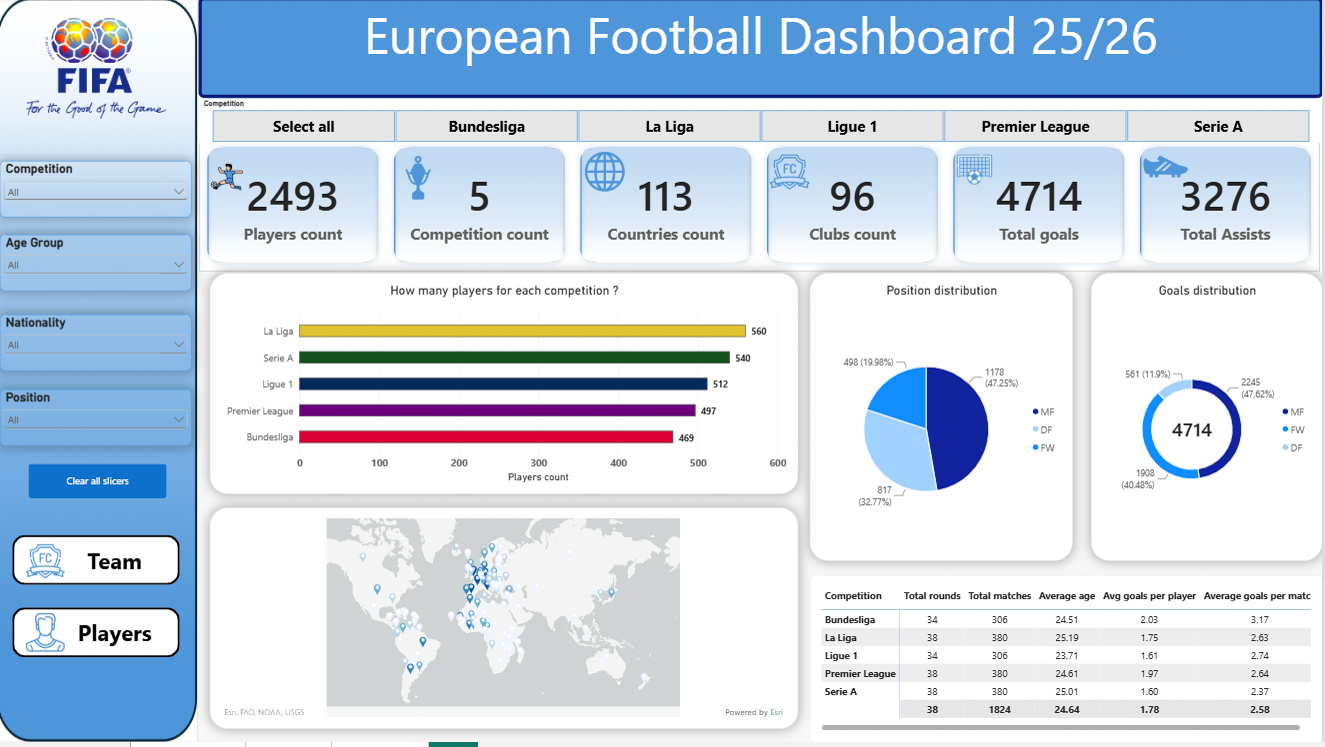

The dashboard page shown, as its layout file describes it:
{"tool":"powerbi","page":{"name":"Overview","canvas":[1920,1080],"ordinal":0},"visuals":[{"type":"cardVisual","fields":{"Data":["_measures.Players count","_measures.Competition count","_measures.Countries count","_measures.Clubs count","_measures.Total goals","_measures.Total Assists"]},"box":[292.3,203.8,1628.1,195.5],"z":0},{"type":"shape","box":[23.5,780,242.5,72.4],"z":0,"group":"g1"},{"type":"textbox","box":[292.3,0,1628.1,146.1],"z":1000},{"type":"image","box":[43.4,783.6,56.1,68.8],"z":1000,"group":"g2"},{"type":"image","box":[43.4,886.7,56.1,68.8],"z":1000,"group":"g3"},{"type":"actionButton","box":[0,0,292.3,1080.6],"z":2000},{"type":"shape","box":[109.6,793.1,123.1,48.9],"z":2000,"group":"g2"},{"type":"shape","box":[109.6,896.2,123.1,48.9],"z":2000,"group":"g3"},{"type":"image","box":[43.2,20.6,203.8,164.7],"z":3000},{"type":"image","box":[308.7,220.2,49.4,82.3],"z":4000},{"type":"image","box":[578.4,220.2,63.8,82.3],"z":5000},{"type":"image","box":[1119.7,220.2,57.6,65.9],"z":6000},{"type":"image","box":[1389.4,212,53.5,74.1],"z":7000},{"type":"image","box":[1661.1,203.8,63.8,82.3],"z":8000},{"type":"barChart","title":"How many players for each competition ?","fields":{"Category":["dim_competitions.Competition"],"Series":["dim_competitions.Competition"],"Y":["_measures.Players count"]},"box":[308.7,399.3,852.1,321.1],"z":9000},{"type":"esriVisual","fields":{"Color":["_measures.Players count"],"Location":["dim_players.Nationality"]},"box":[308.7,741,852.1,321.1],"z":10000},{"type":"pivotTable","fields":{"Rows":["dim_competitions.Competition"],"Values":["_measures.Total rounds","_measures.Total matches","_measures.Average age","_measures.Average goals","_measures.Average goals per match"]},"box":[1178.1,837.9,743.1,242.9],"z":11000},{"type":"pieChart","title":"Position distribution","fields":{"Category":["dim_players.Position"],"Y":["_measures.Players count"]},"box":[1177.4,399.3,380.8,417.8],"z":12000},{"type":"donutChart","title":"Goals distribution","fields":{"Category":["dim_players.Position"],"Y":["_measures.Total goals"]},"box":[1584.9,399.3,335.5,417.8],"z":13000},{"type":"slicer","fields":{"Values":["dim_competitions.Competition"]},"box":[6.2,236.7,277.9,82.3],"z":14000},{"type":"slicer","fields":{"Values":["dim_players.Age Group","dim_players.Age"]},"box":[6.2,343.7,277.9,82.3],"z":15000},{"type":"slicer","fields":{"Values":["dim_players.Nationality"]},"box":[6.2,459,277.9,82.3],"z":16000},{"type":"slicer","fields":{"Values":["dim_players.Position"]},"box":[6.2,568.1,277.9,82.3],"z":17000},{"type":"image","box":[819.2,224.4,123.5,57.6],"z":19000},{"type":"slicer","fields":{"Values":["dim_competitions.Competition"]},"box":[293.2,146.6,1626.9,65.1],"z":19001},{"type":"group","id":"g1","title":"Group 1","box":[23.5,780,242.5,72.4],"z":19004},{"type":"group","id":"g2","title":"Group 1","box":[43.4,783.6,188.2,68.8],"z":19005},{"type":"shape","box":[23.5,884.9,242.5,72.4],"z":19006},{"type":"group","id":"g3","title":"Group 1","box":[43.4,886.7,189.2,68.8],"z":19007},{"type":"actionButton","box":[47.1,676.8,200,50],"z":19008}]}

Visuals, with their boxes on the page's 1920x1080 design canvas (x1, y1, x2, y2). These are canvas units, not pixel positions in the 1325x747 screenshot, which may show the page scaled, cropped or inside an application window:
cardVisual - _measures.Players count x _measures.Competition count: rect(292, 204, 1920, 399)
shape: rect(24, 780, 266, 852)
textbox: rect(292, 0, 1920, 146)
image: rect(43, 784, 100, 852)
image: rect(43, 887, 100, 956)
actionButton: rect(0, 0, 292, 1081)
shape: rect(110, 793, 233, 842)
shape: rect(110, 896, 233, 945)
image: rect(43, 21, 247, 185)
image: rect(309, 220, 358, 302)
image: rect(578, 220, 642, 302)
image: rect(1120, 220, 1177, 286)
image: rect(1389, 212, 1443, 286)
image: rect(1661, 204, 1725, 286)
"How many players for each competition ?" barChart: rect(309, 399, 1161, 720)
esriVisual - _measures.Players count x dim_players.Nationality: rect(309, 741, 1161, 1062)
pivotTable - dim_competitions.Competition x _measures.Total rounds: rect(1178, 838, 1921, 1081)
"Position distribution" pieChart: rect(1177, 399, 1558, 817)
"Goals distribution" donutChart: rect(1585, 399, 1920, 817)
slicer - dim_competitions.Competition: rect(6, 237, 284, 319)
slicer - dim_players.Age Group x dim_players.Age: rect(6, 344, 284, 426)
slicer - dim_players.Nationality: rect(6, 459, 284, 541)
slicer - dim_players.Position: rect(6, 568, 284, 650)
image: rect(819, 224, 943, 282)
slicer - dim_competitions.Competition: rect(293, 147, 1920, 212)
"Group 1" group: rect(24, 780, 266, 852)
"Group 1" group: rect(43, 784, 232, 852)
shape: rect(24, 885, 266, 957)
"Group 1" group: rect(43, 887, 233, 956)
actionButton: rect(47, 677, 247, 727)
